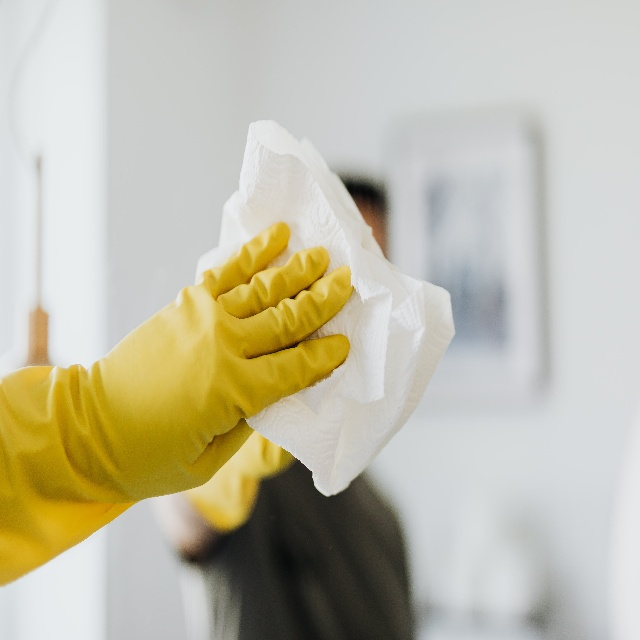Guantes: (3, 219, 356, 581)
